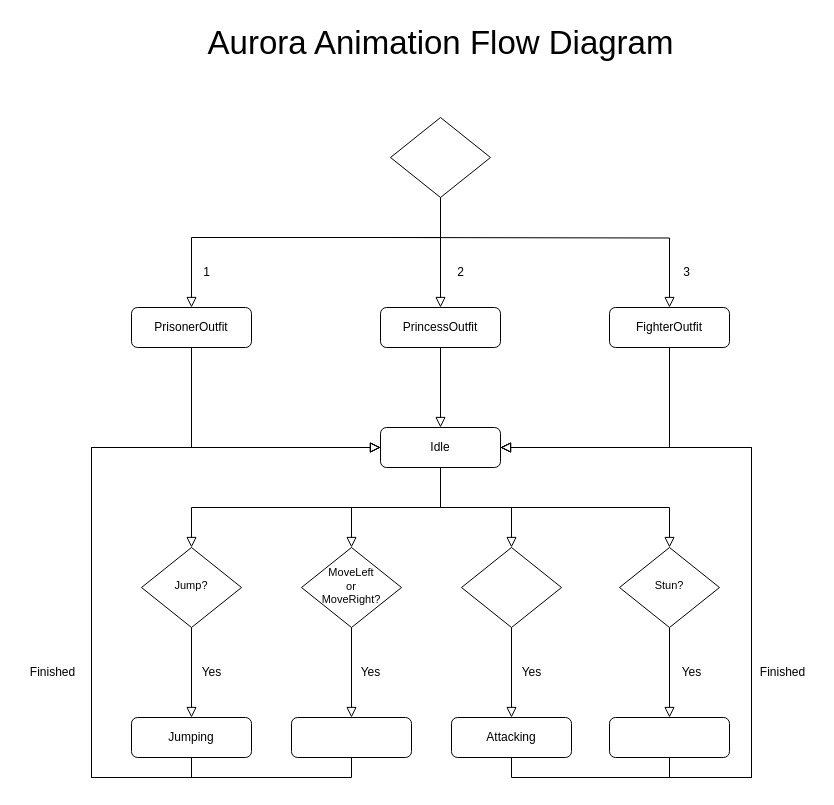
This 834x805 diagram has some shape labels left out. The centre of each missing label's shape, as x and y in pixels:
"BaseAttack?" belongs at [511,587].
"Chapter?" belongs at [440,157].
"Running" belongs at [351,737].
"Stunning" belongs at [669,737].
